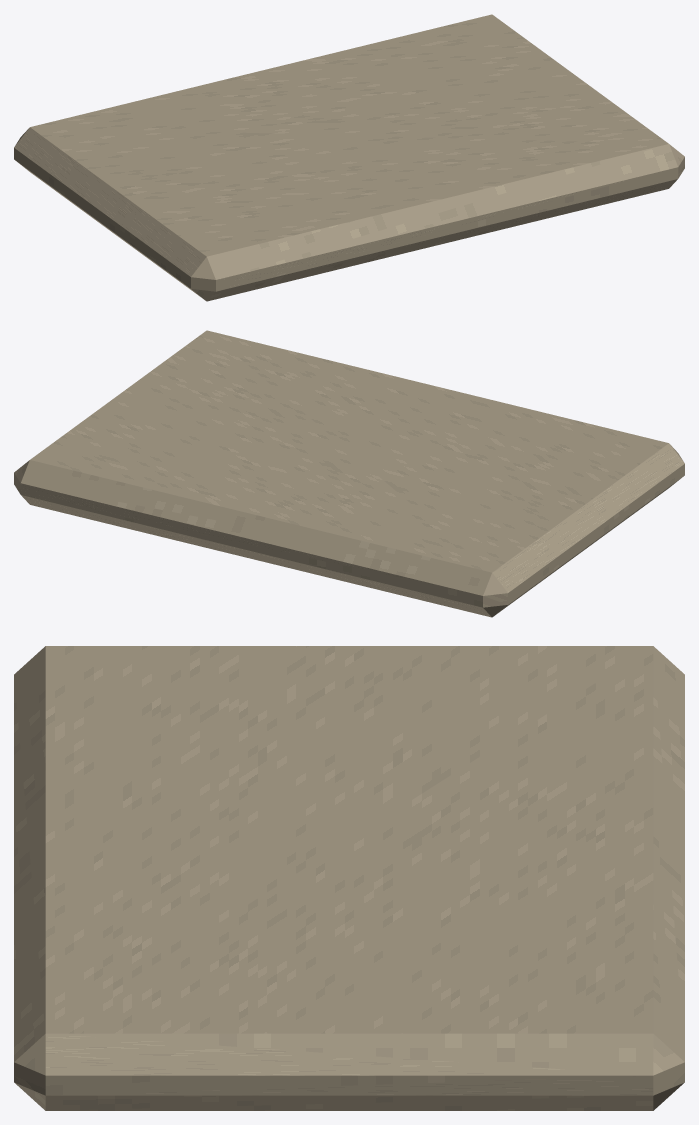
The model's file is ceramic_armor.glb.
3 views of the same model, one above another, from view 1: azimuth 30°, elevation 25°; view 2: azimuth 150°, elevation 25°; view 3: azimuth 270°, elevation 25° (orthographic). The views are drawn at different scales.
Visible parts, largest first — view 1: block_single ceramic plate; view 2: block_single ceramic plate; view 3: block_single ceramic plate.
Boxes of the visible parts, bbox=[...] form: block_single ceramic plate: bbox=[14, 14, 684, 301]; block_single ceramic plate: bbox=[14, 330, 684, 617]; block_single ceramic plate: bbox=[14, 646, 684, 1110].
Size of the model in its own units: 0.1508 by 0.0131 by 0.1032.
Materials: 1 (1 with a texture image).
